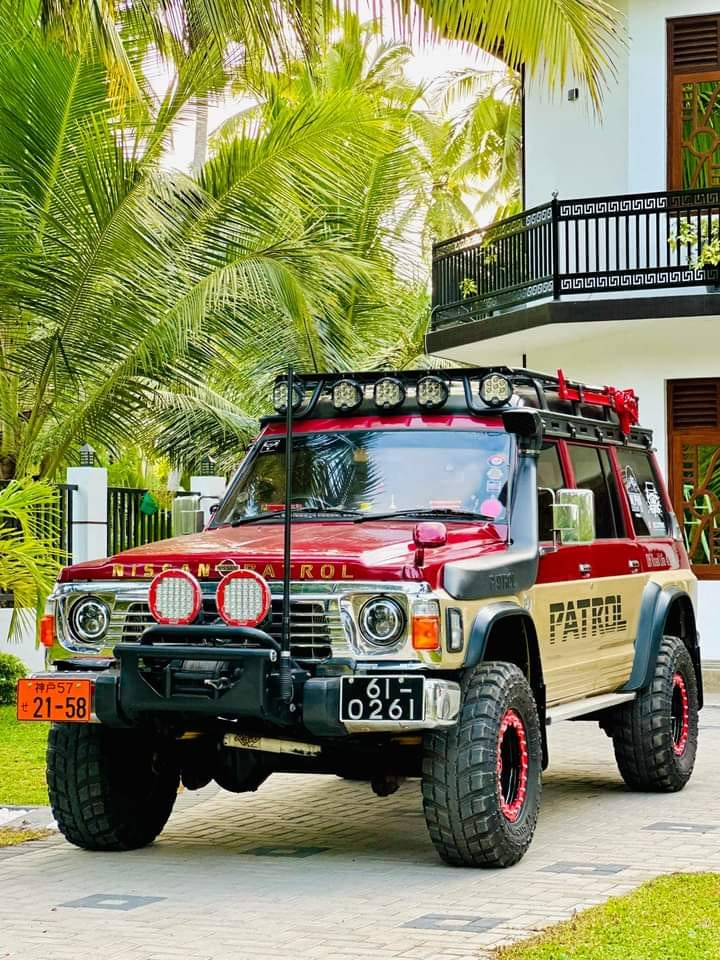number_plate: (338, 679, 425, 724)
